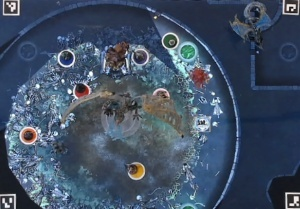blue: (54, 47, 77, 68)
green: (159, 30, 180, 50)
orange: (17, 122, 39, 148)
pink: (150, 85, 173, 106)
red: (68, 81, 91, 102)
violet: (129, 47, 152, 67)
yellow: (124, 160, 146, 181)
